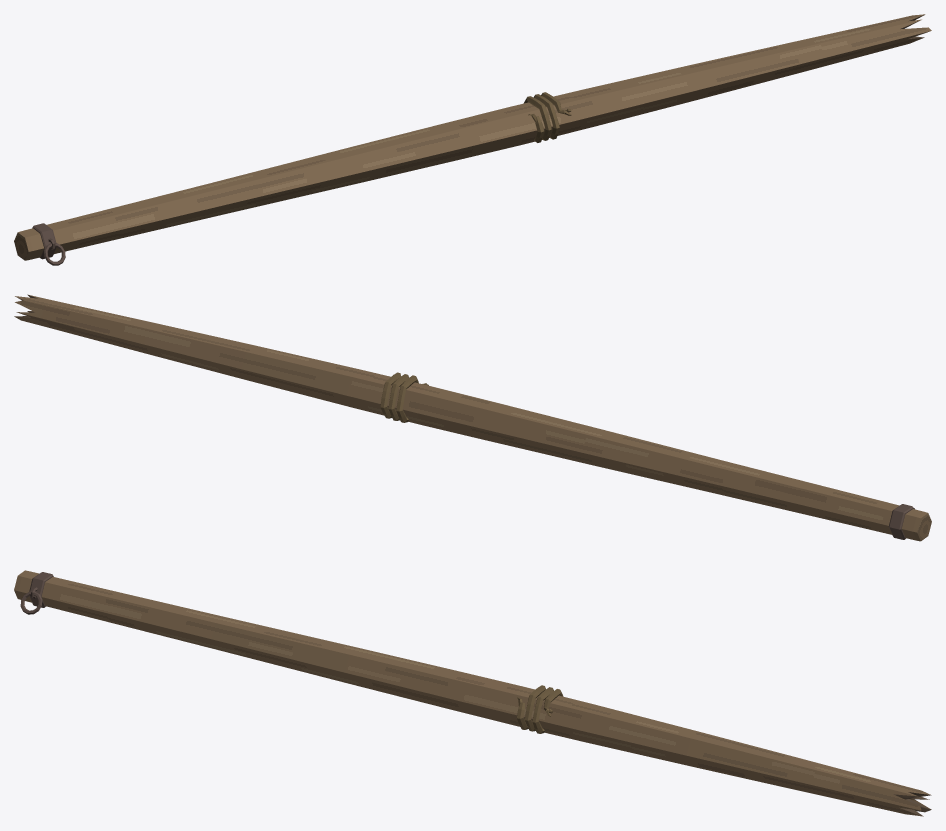
3 views of the same model, one above another, from view 1: azimuth 30°, elevation 25°; view 2: azimuth 150°, elevation 25°; view 3: azimuth 330°, elevation 25° (orthographic).
Parts seen in each view (by area): view 1: matte_yardarm, metal_yardarm; view 2: matte_yardarm; view 3: matte_yardarm, metal_yardarm.
Boxes of the visible parts, x1,y1,x2,y2 form: matte_yardarm: (14,14,931,260); metal_yardarm: (32,223,65,265); matte_yardarm: (14,294,931,541); matte_yardarm: (14,570,931,816); metal_yardarm: (20,572,53,614).
Size of the model in its own units: 8.4 by 0.3264 by 0.4592.
Materials: 1 (1 with a texture image).
